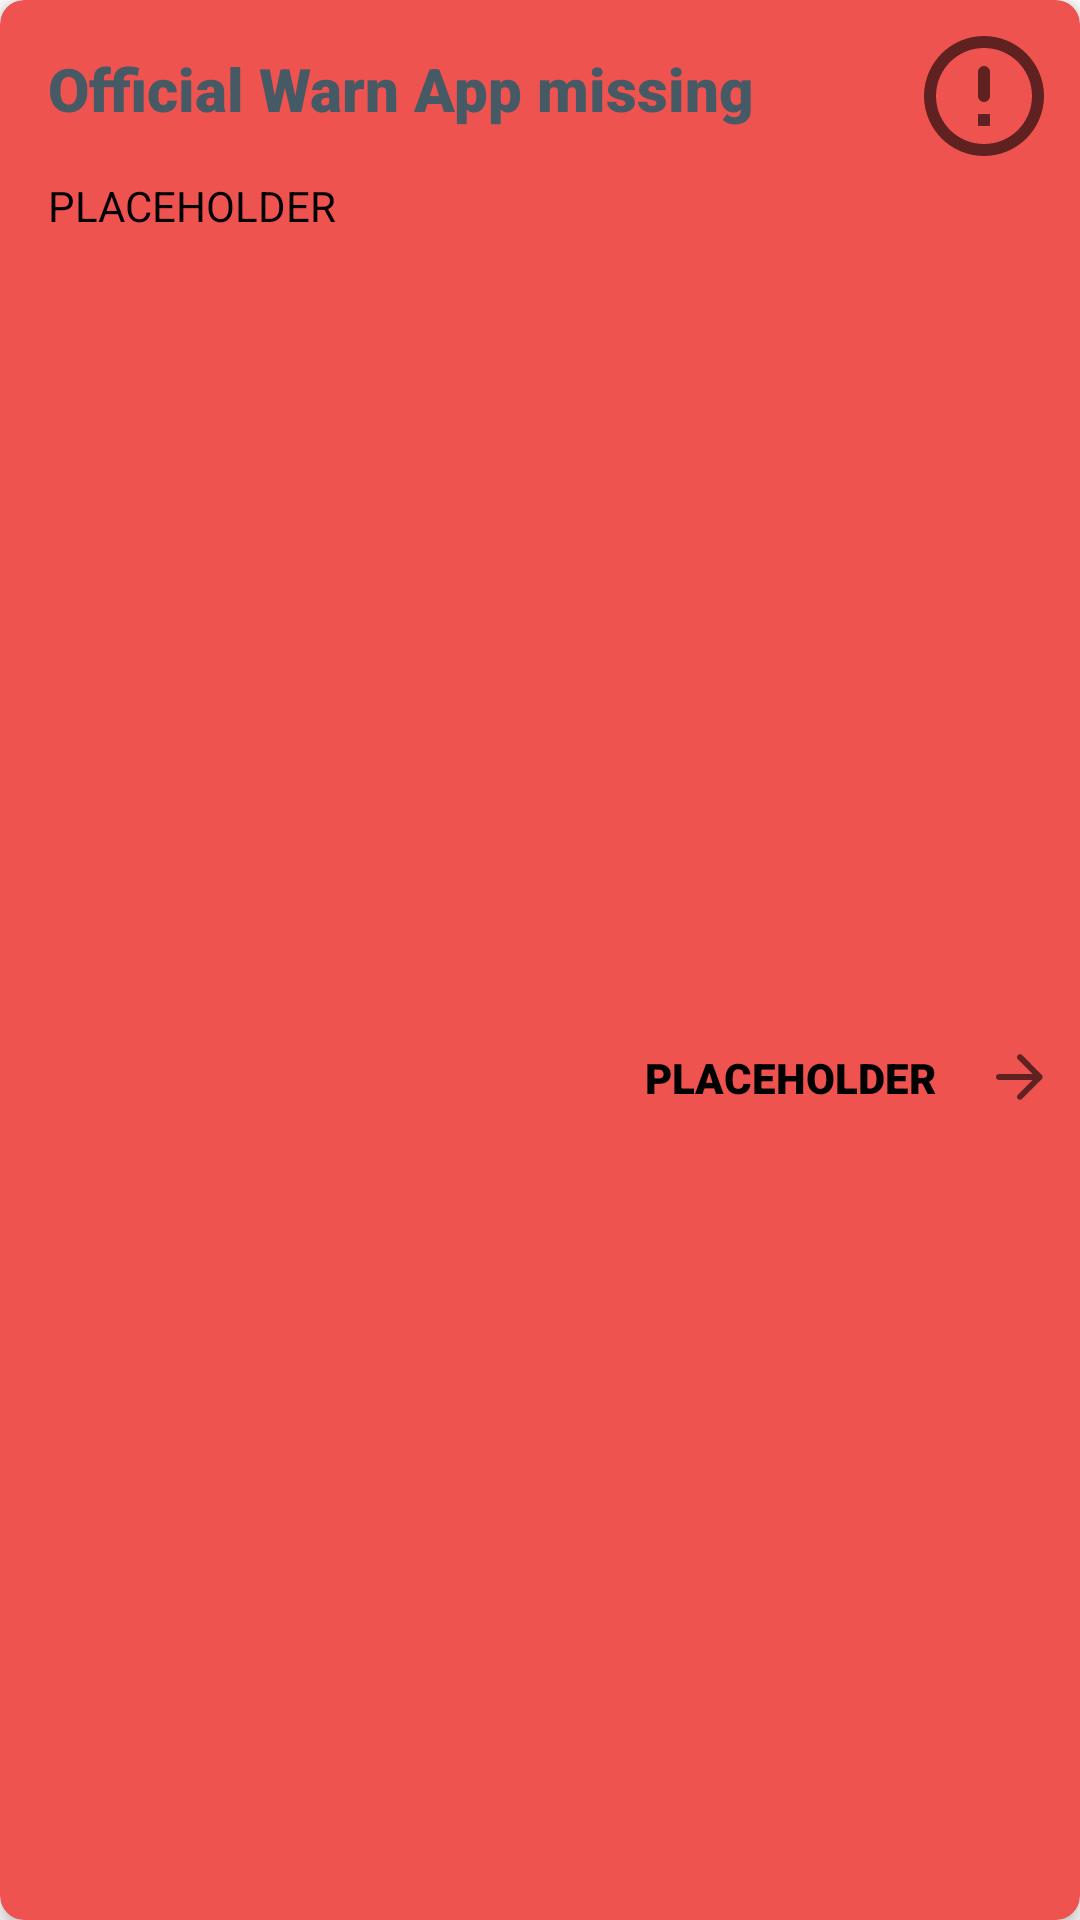

Named icons in this screenshot (1080px x 1920px) and their bounding boxes, (x1, y1, x2, y2):
arrow forward: (996, 1054, 1043, 1100)
error: (924, 36, 1044, 156)
